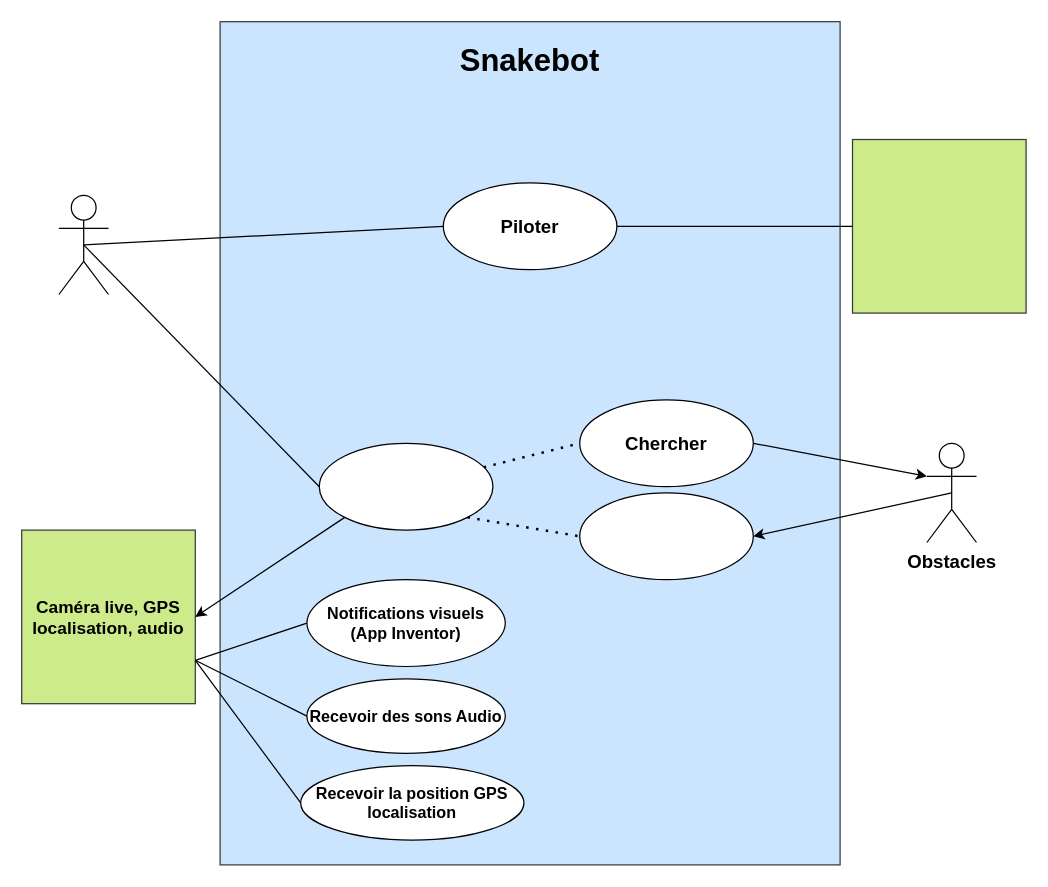
This 1048x887 diagram has some shape labels left out. The shapes that lost their labels are listed below. From the top down, each one's centre as x and y in pixels, then its label:
At (83,244): "Utilisateur".
At (938,225): "Sur la route, les plantes, les coauilles, des objets etc...".
At (405,486): "Informer".
At (665,536): "Détecter".
